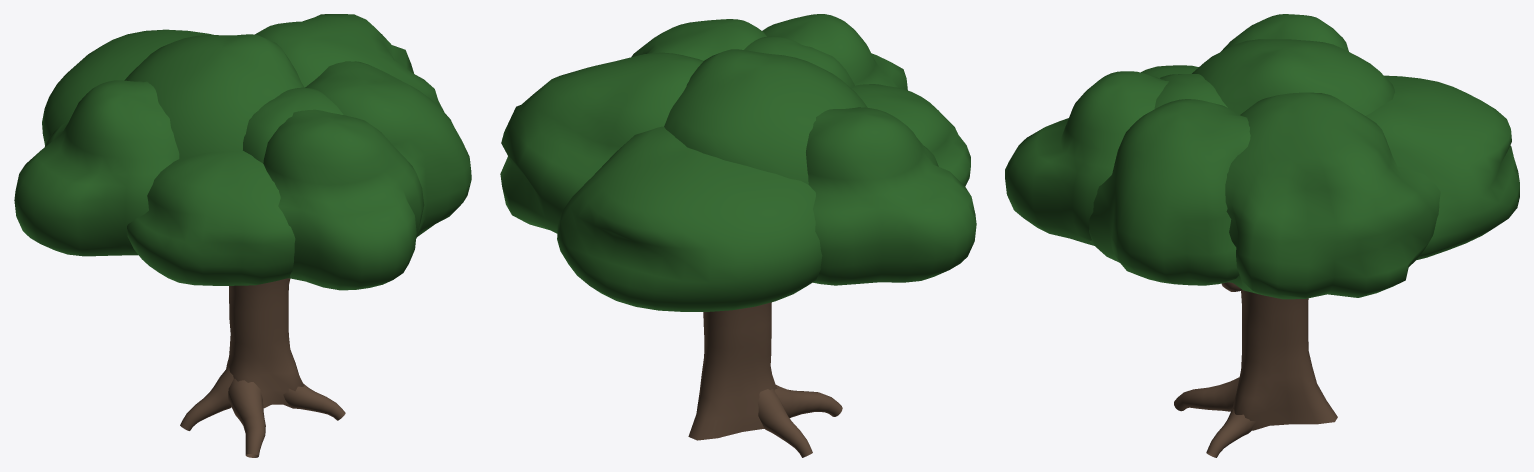
File: tree-1-4.fbx
3 renders of one model, left to right at view 1: azimuth 30°, elevation 25°; view 2: azimuth 150°, elevation 25°; view 3: azimuth 270°, elevation 25°, orthographic. The views are drawn at different scales.
Visible parts, largest first — view 1: Leaves, Trunk, Root.001, Root.002, Root; view 2: Leaves, Trunk, Root.002, Root.001; view 3: Leaves, Trunk, Root.001, Root.
Part boxes in pixels (left/top/right/bottom): Leaves: left=14, top=14, right=471, bottom=290; Trunk: left=226, top=278, right=304, bottom=408; Root.001: left=228, top=378, right=265, bottom=457; Root.002: left=180, top=366, right=233, bottom=430; Root: left=283, top=383, right=345, bottom=420; Leaves: left=500, top=14, right=976, bottom=311; Trunk: left=688, top=302, right=777, bottom=440; Root.002: left=758, top=389, right=812, bottom=457; Root.001: left=774, top=385, right=842, bottom=417; Leaves: left=1005, top=14, right=1519, bottom=299; Trunk: left=1232, top=290, right=1337, bottom=430; Root.001: left=1174, top=377, right=1239, bottom=411; Root: left=1206, top=409, right=1255, bottom=457.
Bounding box in the file's own units: 699 × 589 × 730.
